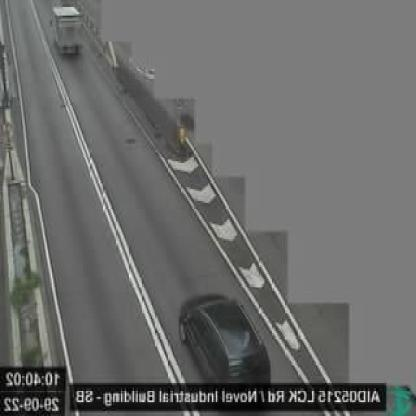Car: (173, 291, 281, 409)
Truck: (49, 0, 87, 64)
